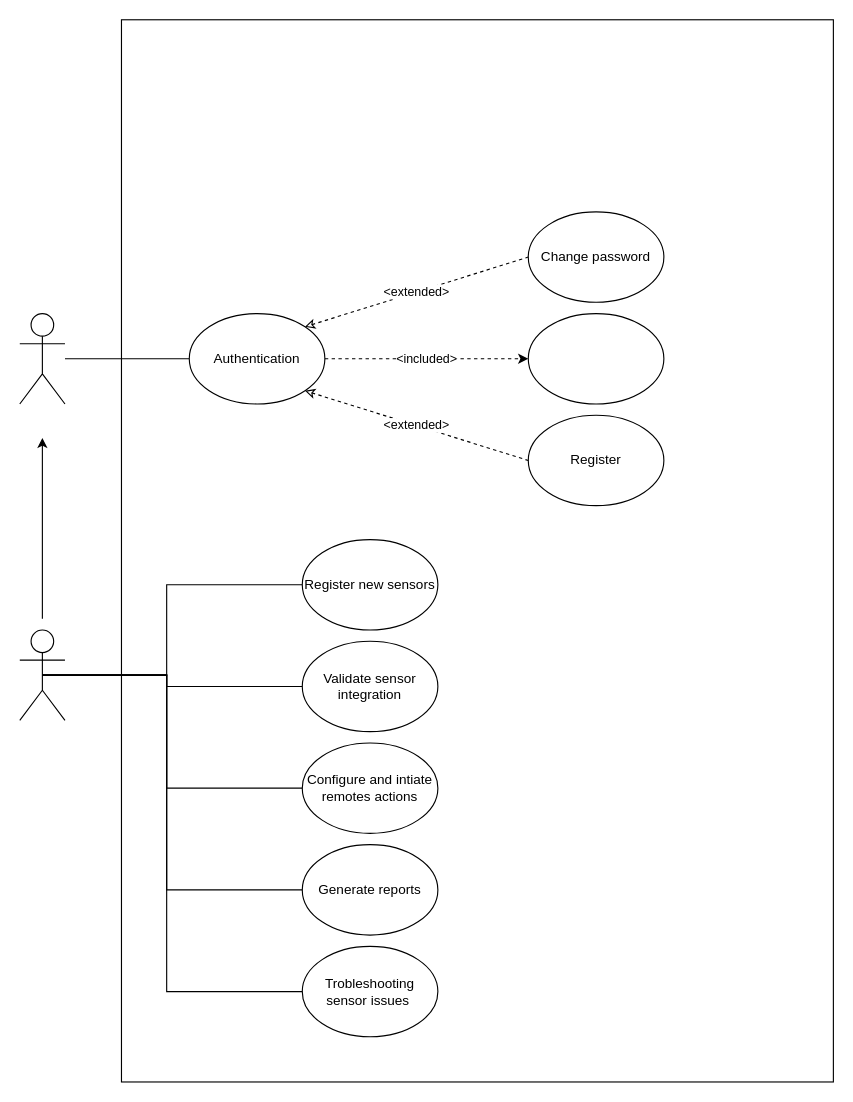
Some shapes in this 853 by 1102 pixel diagram are drawn without their labels. Each missing label, with the centre of its shape:
"Admin" belongs at [42,674].
"Login" belongs at [595,358].
"User" belongs at [42,358].
